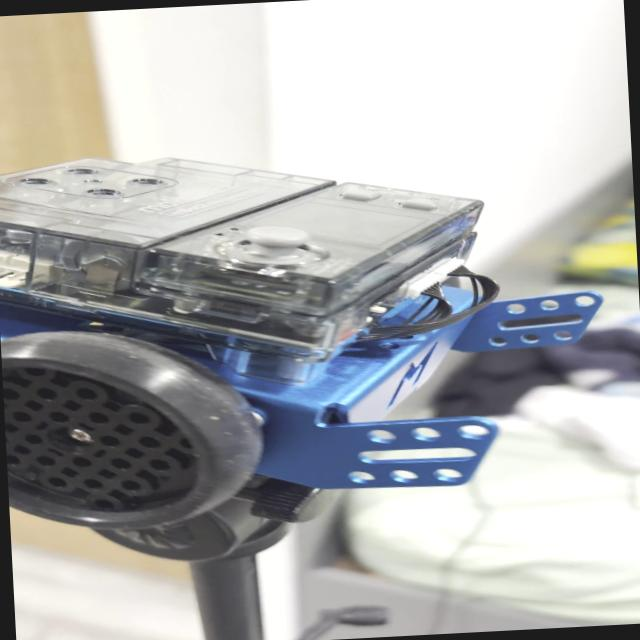mbot-detection: (0, 125, 622, 542)
